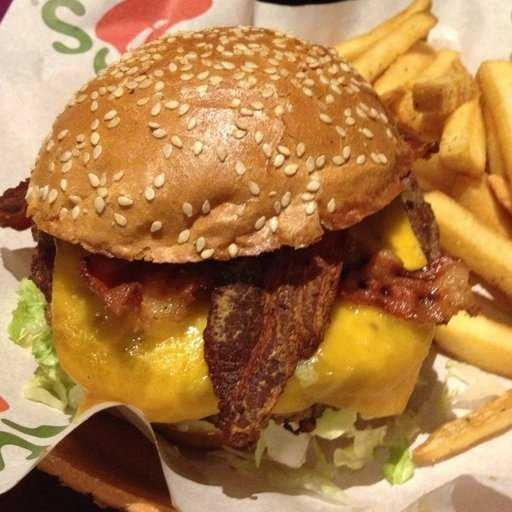hamburger: (50, 22, 420, 425)
